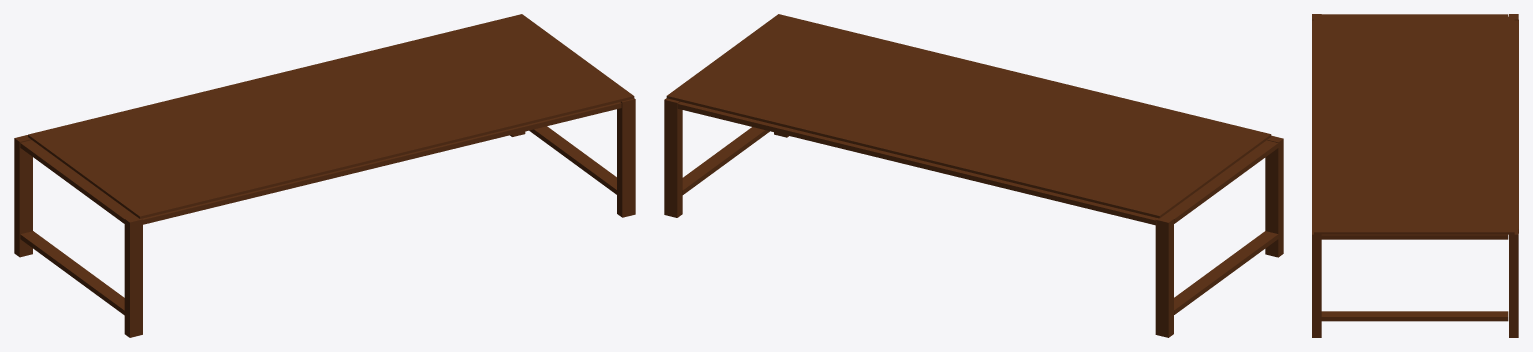
The model's file is Table1.fbx.
3 views of the same model, side by side, from view 1: azimuth 30°, elevation 25°; view 2: azimuth 150°, elevation 25°; view 3: azimuth 270°, elevation 25° (orthographic). The views are drawn at different scales.
Parts seen in each view (by area): view 1: Table1; view 2: Table1; view 3: Table1.
Boxes of the visible parts, x1=… form: Table1: x1=14, y1=14, x2=635, y2=337; Table1: x1=664, y1=14, x2=1283, y2=337; Table1: x1=1312, y1=14, x2=1518, y2=337.
Bounding box in the file's own units: 723 × 161 × 286.
